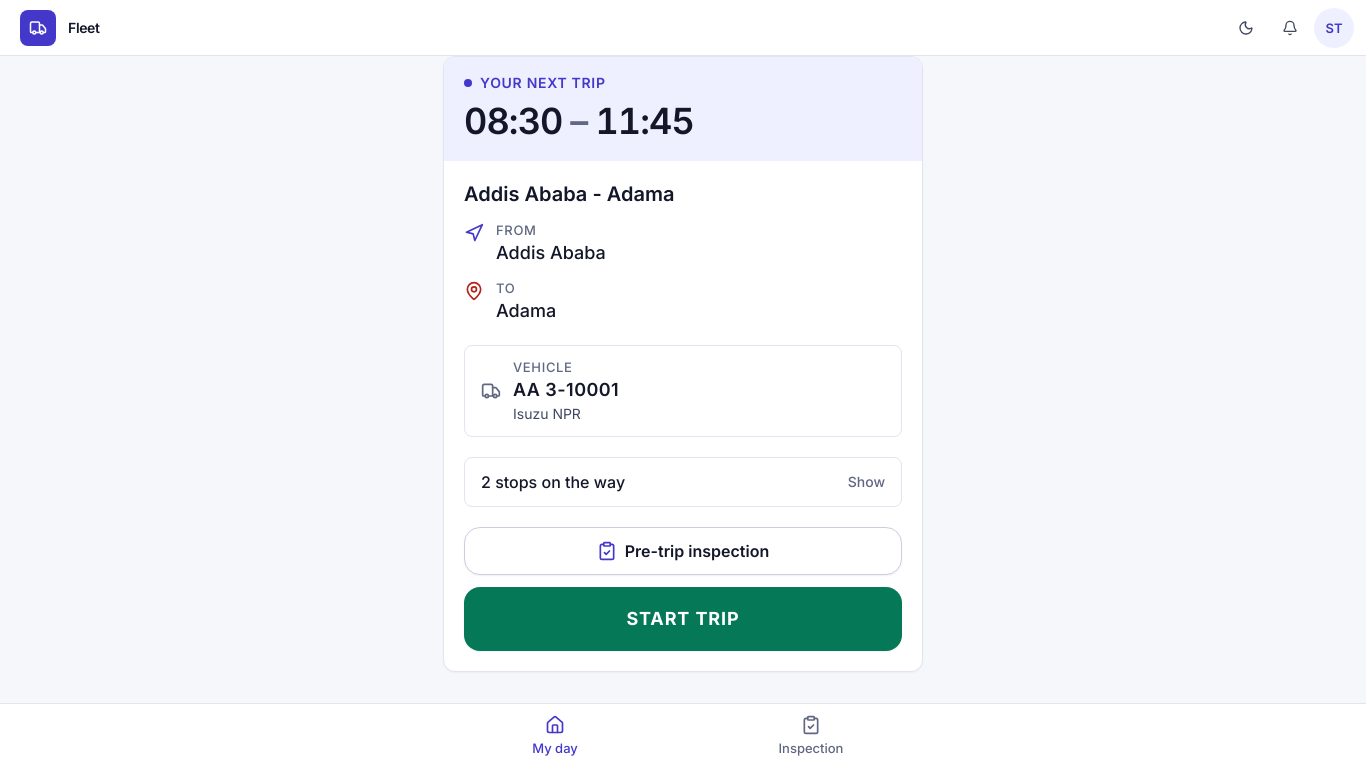
it: Driver Home (S-11) › a refused start says why, under the button
(page scrolled)
Click the button "Start trip" at (683, 618), box left=464, top=586, right=902, bottom=650
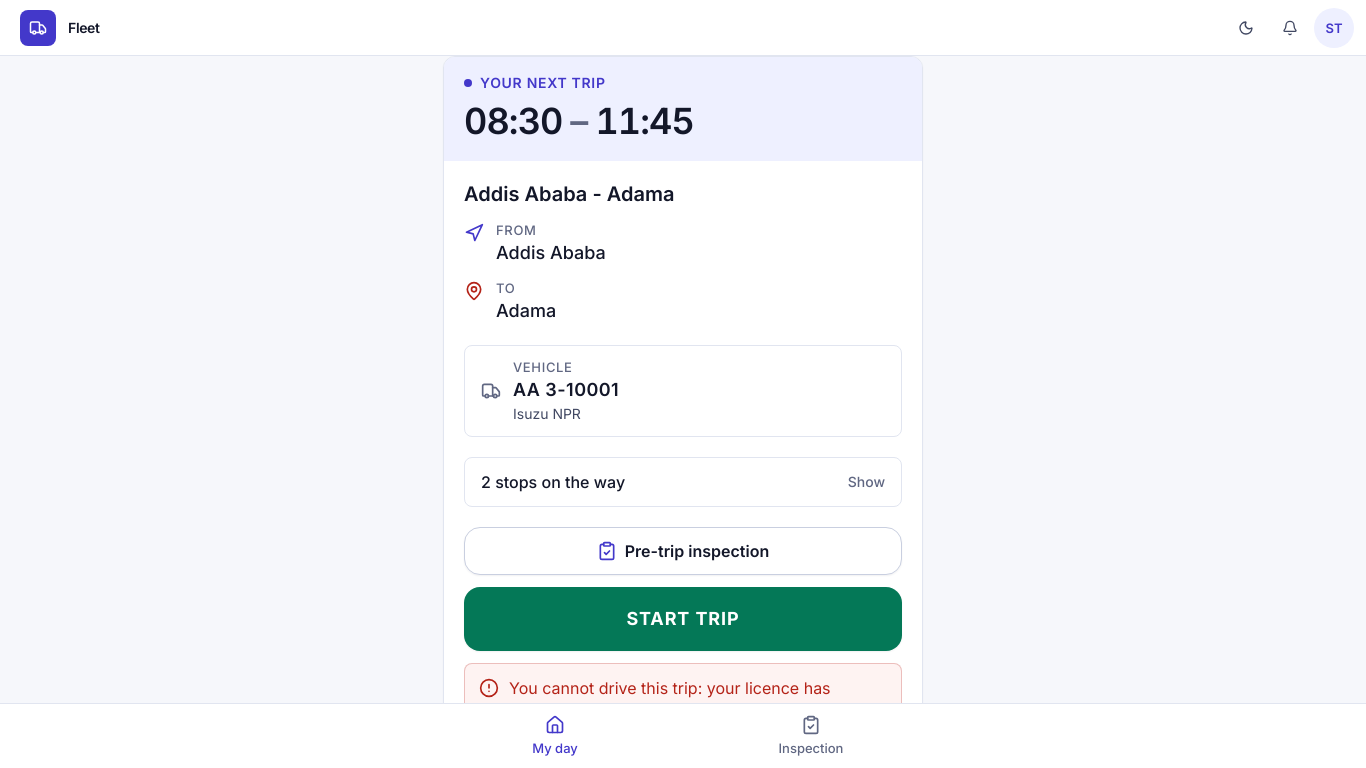
Expected: the message reads "You cannot drive this trip: your licence has expired. Call dispatch.", left=509, top=678, right=831, bottom=722
